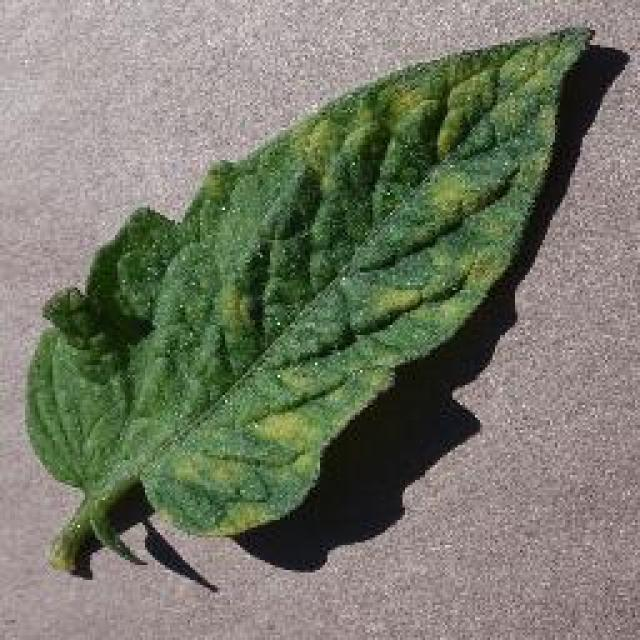Tomato mold leaf: (26, 21, 596, 536)
